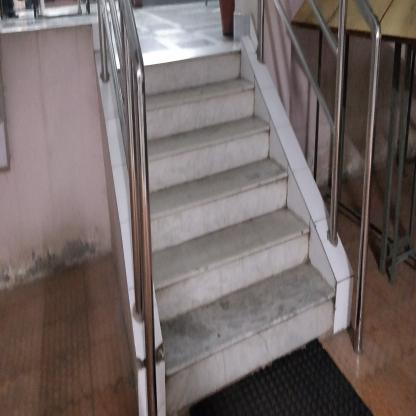stairs: (177, 103, 251, 414)
